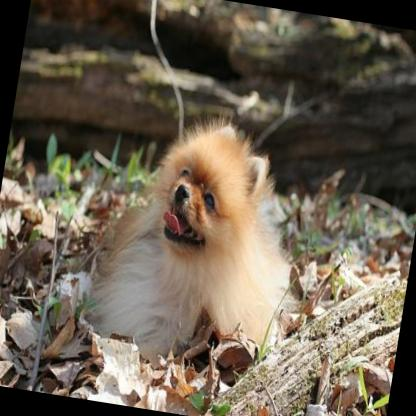Pomeranian: (82, 99, 302, 378)
